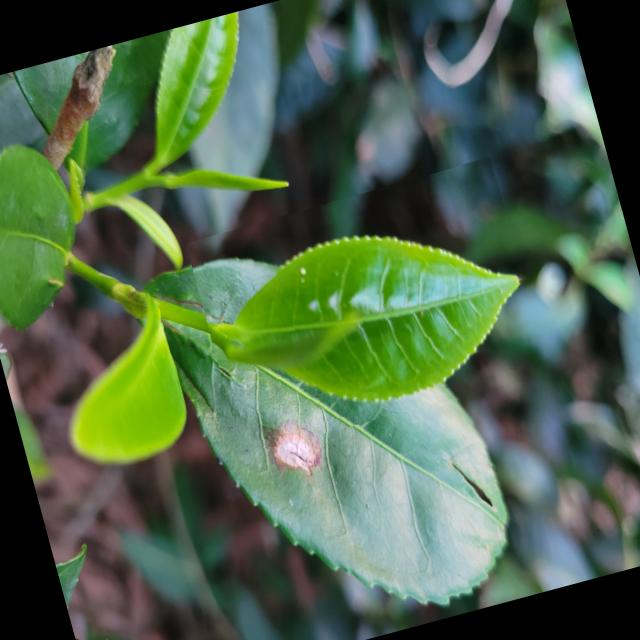Catagory A(1-2 days): (183, 155, 554, 455)
